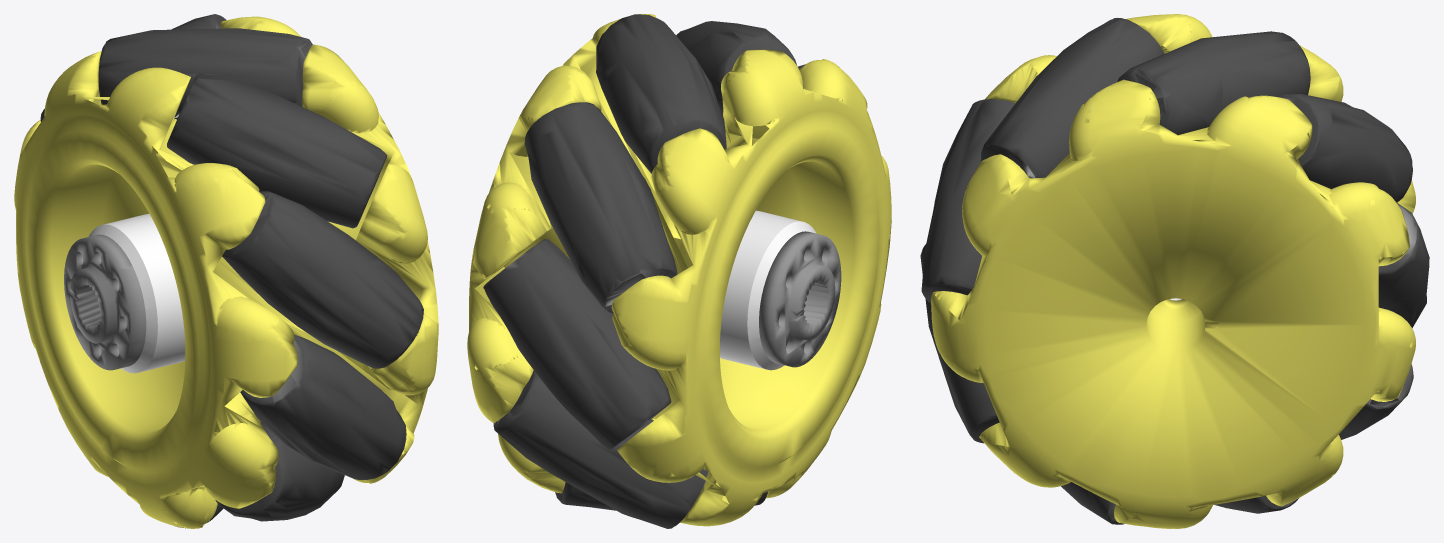
Rendered from front_left_wheel_link.dae.
3 views of the same model, side by side, from view 1: azimuth 30°, elevation 25°; view 2: azimuth 150°, elevation 25°; view 3: azimuth 270°, elevation 25° (orthographic).
Visible parts, largest first — view 1: node19, node5, node3, node15, node17, node20, node0, node13, node11; view 2: node19, node1, node11, node17, node7, node20, node0, node3, node9; view 3: node19, node17, node3, node11, node5, node1, node15, node7, node13, node9.
Boxes of the visible parts, x1=… form: node19: x1=14, y1=16, x2=438, y2=528; node5: x1=222, y1=191, x2=423, y2=368; node3: x1=167, y1=73, x2=387, y2=228; node15: x1=240, y1=334, x2=406, y2=479; node17: x1=98, y1=28, x2=312, y2=119; node20: x1=64, y1=234, x2=146, y2=370; node0: x1=88, y1=214, x2=185, y2=373; node13: x1=215, y1=421, x2=344, y2=521; node11: x1=40, y1=14, x2=226, y2=121; node19: x1=467, y1=14, x2=891, y2=526; node1: x1=483, y1=239, x2=671, y2=449; node11: x1=524, y1=102, x2=677, y2=313; node17: x1=596, y1=14, x2=726, y2=173; node7: x1=493, y1=370, x2=708, y2=528; node20: x1=759, y1=231, x2=841, y2=367; node0: x1=720, y1=210, x2=816, y2=370; node3: x1=676, y1=21, x2=796, y2=115; node9: x1=555, y1=482, x2=767, y2=510; node19: x1=931, y1=14, x2=1415, y2=528; node17: x1=1117, y1=31, x2=1310, y2=135; node3: x1=980, y1=17, x2=1164, y2=177; node11: x1=1277, y1=94, x2=1412, y2=202; node5: x1=921, y1=99, x2=1015, y2=302; node1: x1=1378, y1=203, x2=1429, y2=328; node15: x1=920, y1=244, x2=999, y2=443; node7: x1=1338, y1=364, x2=1413, y2=439; node13: x1=1061, y1=482, x2=1124, y2=524; node9: x1=1215, y1=495, x2=1298, y2=513.
Bounding box in the file's own units: 0.0337 × 0.0603 × 0.0602.
